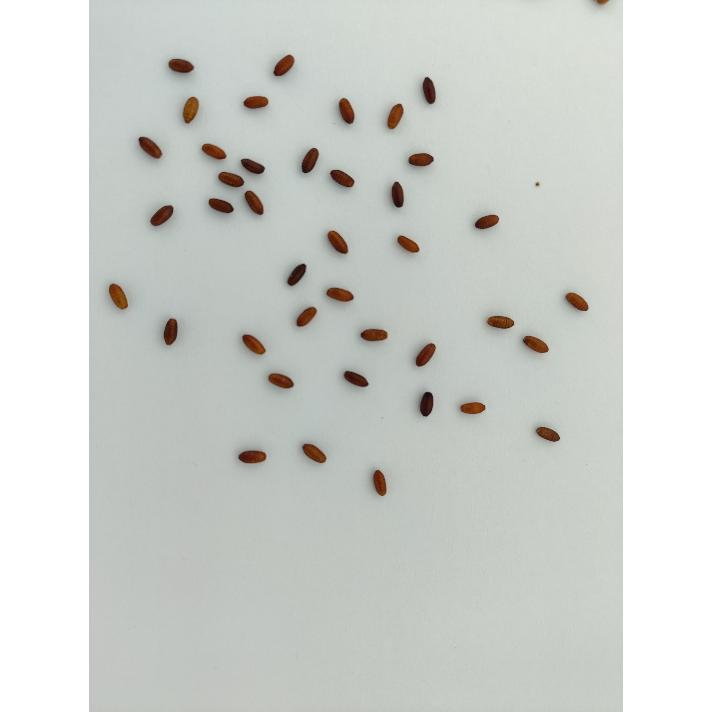pupae: (242, 187, 272, 221), (176, 93, 203, 127), (134, 134, 166, 162), (239, 332, 271, 360), (412, 339, 440, 371), (520, 332, 554, 358), (326, 229, 354, 260), (270, 51, 300, 79), (341, 366, 371, 394), (416, 385, 438, 423), (300, 441, 330, 467), (298, 146, 324, 176), (107, 281, 131, 313), (336, 96, 360, 128), (560, 290, 592, 314), (402, 150, 440, 170), (394, 229, 423, 255), (160, 316, 182, 350), (264, 372, 298, 394), (418, 75, 441, 107), (531, 424, 567, 444), (386, 178, 408, 210), (165, 56, 197, 77), (202, 141, 230, 165), (239, 154, 267, 178), (148, 205, 176, 229), (286, 260, 310, 288), (292, 306, 320, 330), (206, 196, 236, 218), (471, 210, 501, 232), (372, 466, 390, 502), (242, 93, 274, 113), (486, 312, 518, 332), (359, 326, 394, 344), (330, 168, 356, 192), (384, 104, 406, 132), (236, 448, 268, 467), (326, 285, 356, 305), (216, 170, 244, 190), (456, 401, 486, 417)
